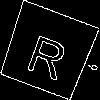R: (23, 25, 74, 81)
